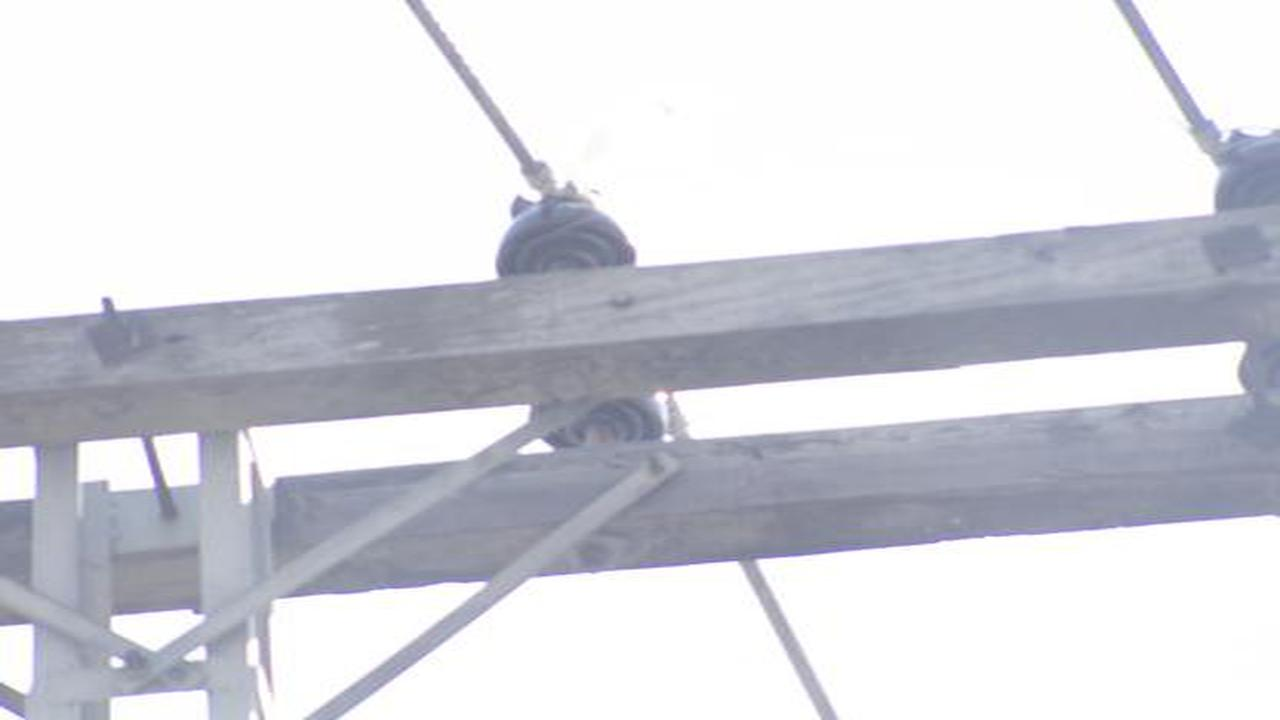insulator_pin: (487, 182, 645, 277)
